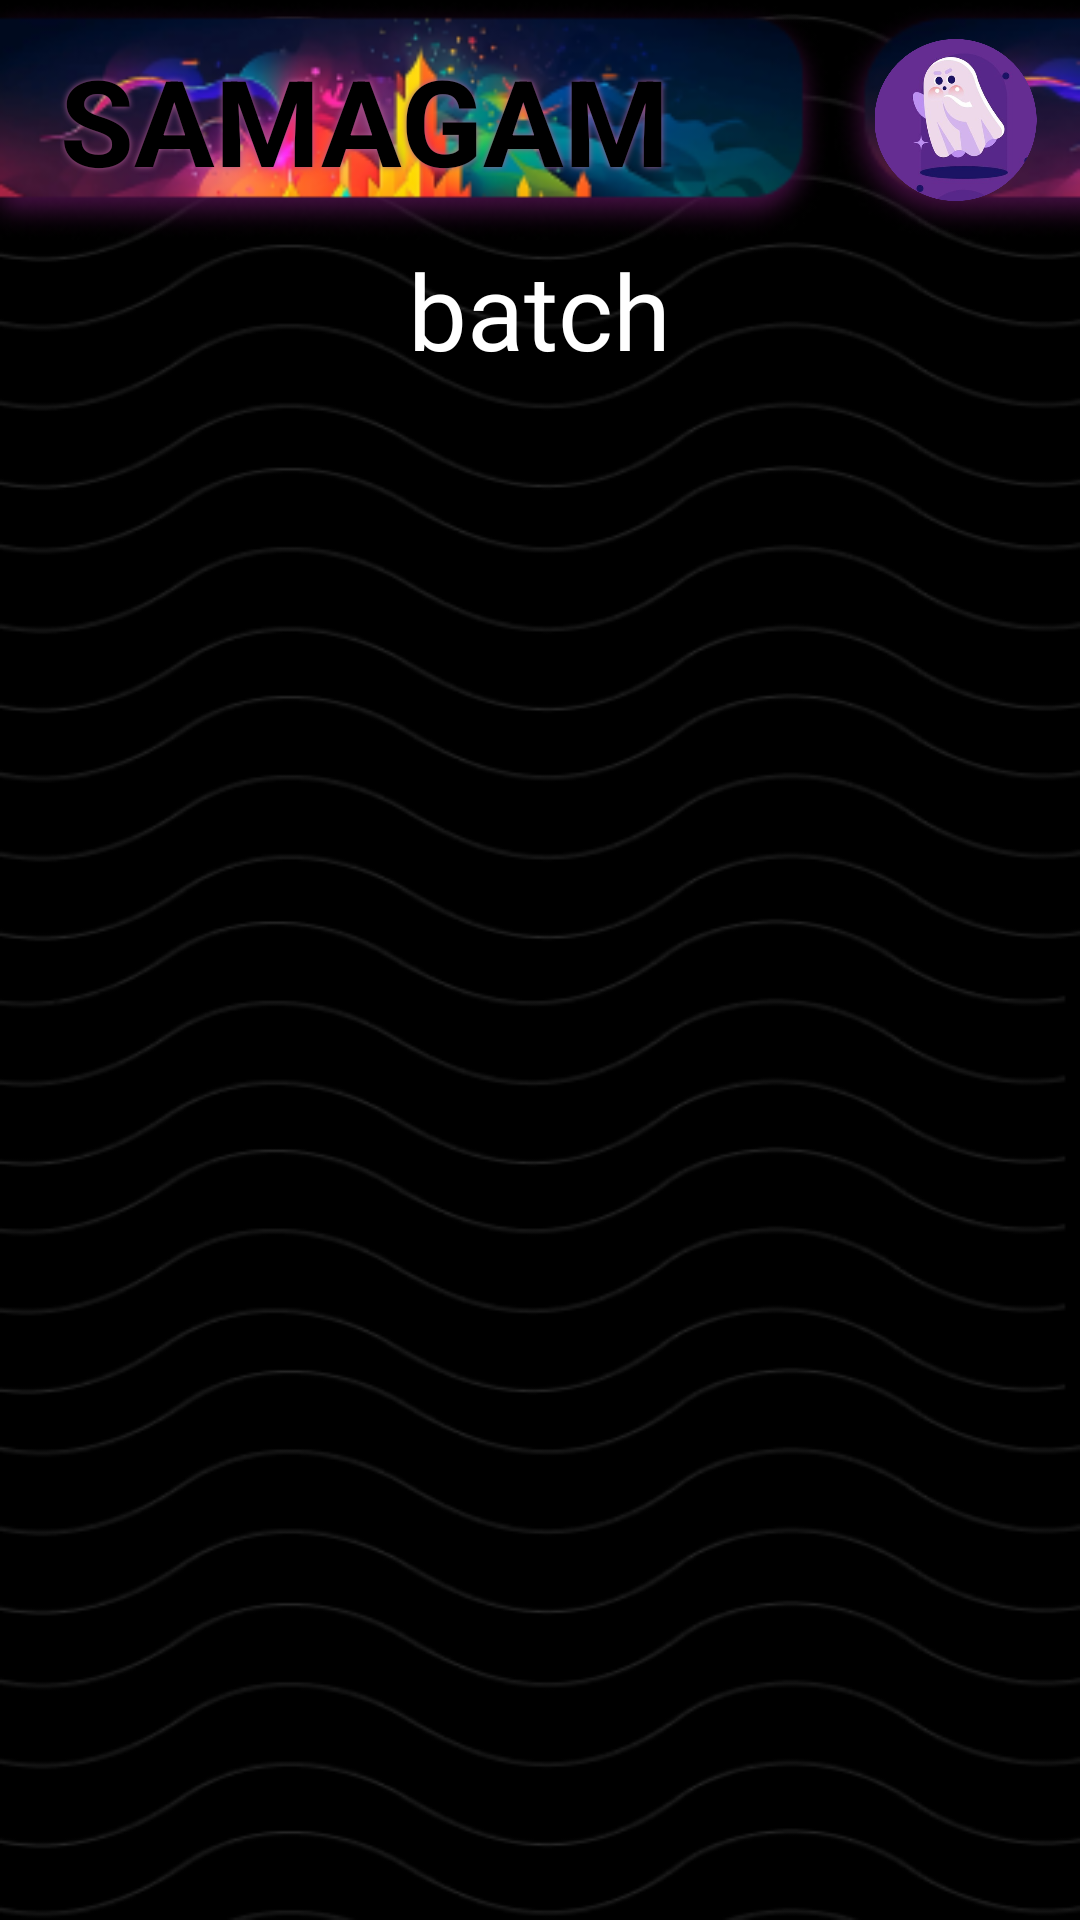

Icons on this 1080*1920 Android screen, each with its box as bbox=[x1, y1, x2, y2]:
ghost: bbox=[831, 18, 1080, 228]
